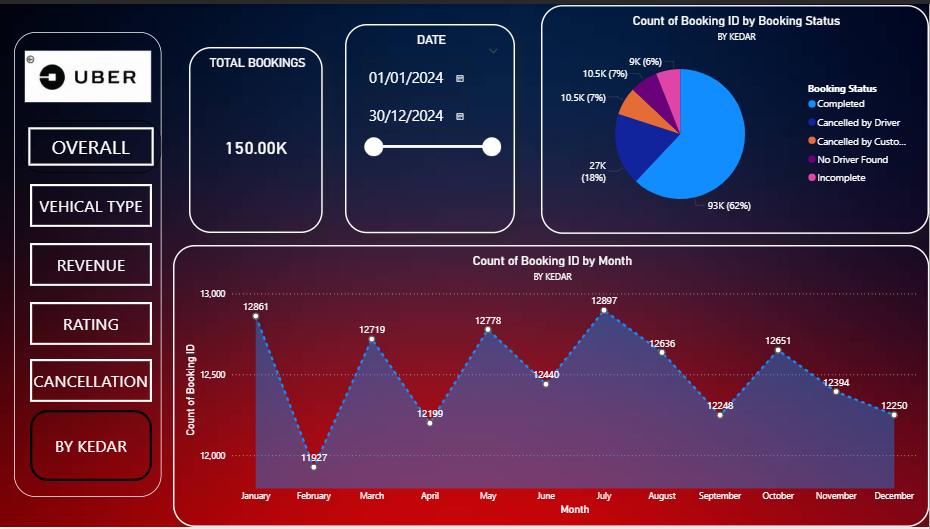

The dashboard page shown, as its layout file describes it:
{"tool":"powerbi","page":{"name":"Page 2","canvas":[1280,720],"ordinal":1},"visuals":[{"type":"textbox","box":[20.2,38.6,203.3,640],"z":0},{"type":"image","box":[5,58.8,233.5,80.6],"z":1000},{"type":"actionButton","box":[30.3,159.7,192.7,72.9],"z":2000},{"type":"actionButton","box":[42.7,247.7,167.9,59.2],"z":3000},{"type":"actionButton","box":[42.7,328.9,167.9,59.2],"z":4000},{"type":"actionButton","box":[42.7,410.2,167.9,59.2],"z":5000},{"type":"actionButton","box":[42.7,488.6,167.9,59.2],"z":6000},{"type":"shape","box":[42.7,558.8,167.9,97.7],"z":7000},{"type":"pieChart","fields":{"Y":["CountNonNull(ncr_ride_bookings.Booking ID)"],"Category":["ncr_ride_bookings.Booking Status"]},"box":[746,1.4,534,315.2],"z":8000},{"type":"stackedAreaChart","fields":{"Y":["CountNonNull(ncr_ride_bookings.Booking ID)"],"Category":["ncr_ride_bookings.Date.Variation.Date Hierarchy.Month"]},"box":[239.5,331.7,1040.5,388.1],"z":9000},{"type":"card","title":"TOTAL BOOKINGS","fields":{"Values":["CountNonNull(ncr_ride_bookings.Customer ID)"]},"box":[261.5,59.2,184.4,256],"z":10000},{"type":"slicer","title":"DATE","fields":{"Values":["ncr_ride_bookings.Date"]},"box":[476.2,27.5,234,287.7],"z":11000}]}

Visuals, with their boxes in screenshot pixels (x1, y1, x2, y2), scaled from the page's 1280x720 canvas onto the 930x529 screenshot:
textbox: Rect(15, 28, 162, 499)
image: Rect(4, 43, 173, 102)
actionButton: Rect(22, 117, 162, 171)
actionButton: Rect(31, 182, 153, 225)
actionButton: Rect(31, 242, 153, 285)
actionButton: Rect(31, 301, 153, 345)
actionButton: Rect(31, 359, 153, 402)
shape: Rect(31, 411, 153, 482)
pieChart - CountNonNull(ncr_ride_bookings.Booking ID) x ncr_ride_bookings.Booking Status: Rect(542, 1, 929, 233)
stackedAreaChart - CountNonNull(ncr_ride_bookings.Booking ID) x ncr_ride_bookings.Date.Variation.Date Hierarchy.Month: Rect(174, 244, 929, 528)
"TOTAL BOOKINGS" card: Rect(190, 43, 324, 232)
"DATE" slicer: Rect(346, 20, 516, 232)
